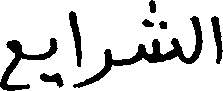ا: (68, 9, 81, 73), (209, 13, 221, 64)
ر: (86, 46, 109, 84)
ش: (136, 0, 178, 64)
ع: (0, 38, 22, 90)
ل: (191, 13, 201, 64)
ي: (40, 35, 62, 88)
